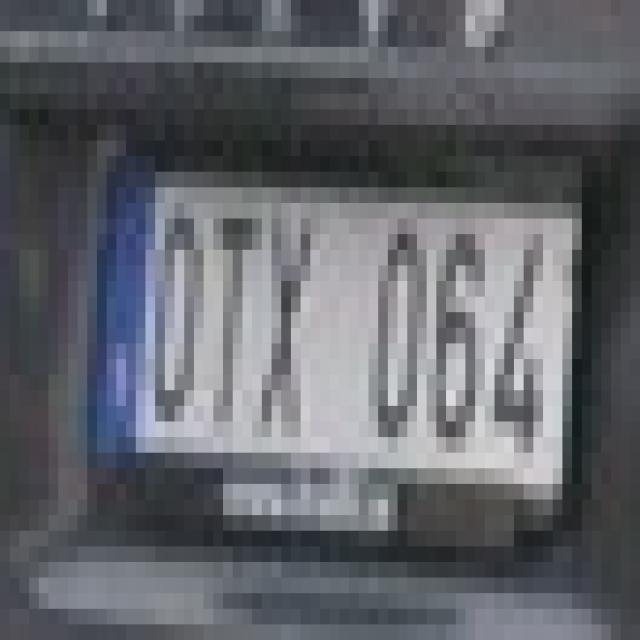licenseplate: (66, 111, 590, 576)
